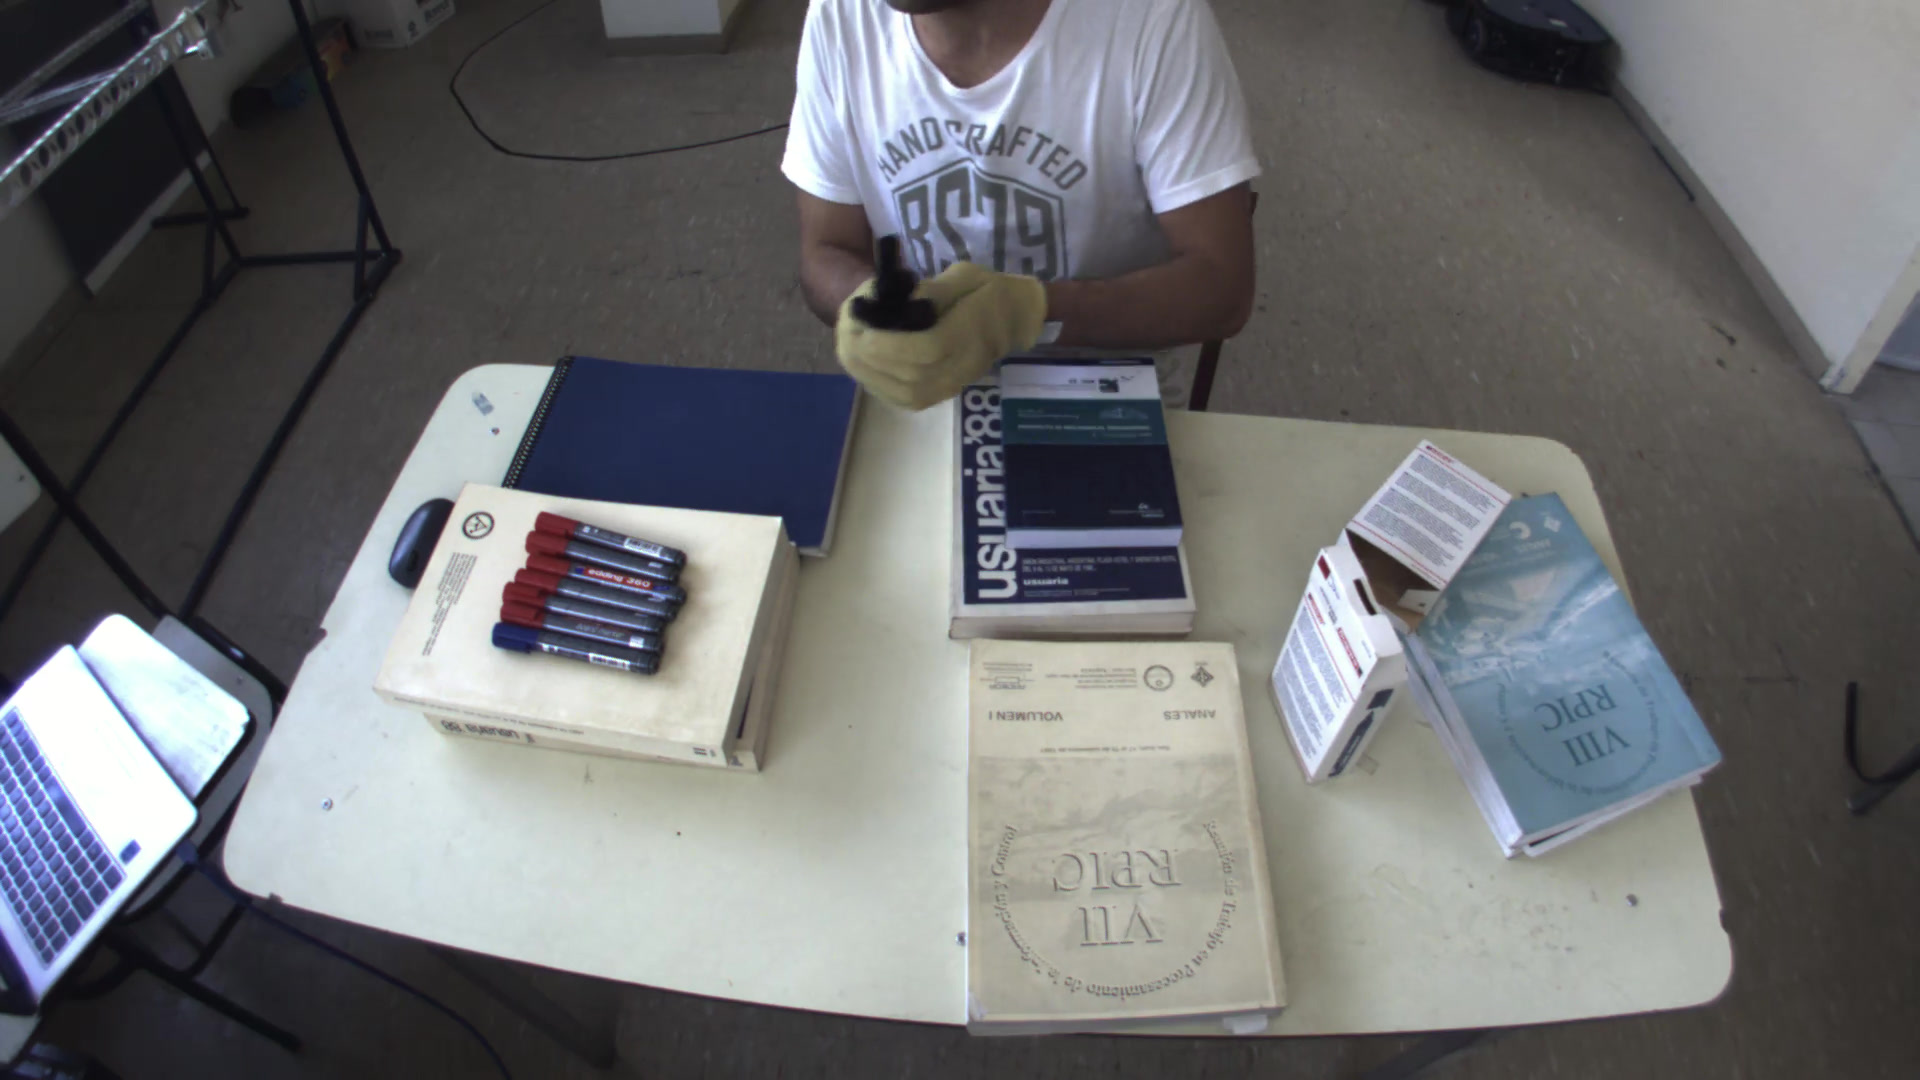hand: (818, 243, 1056, 419)
